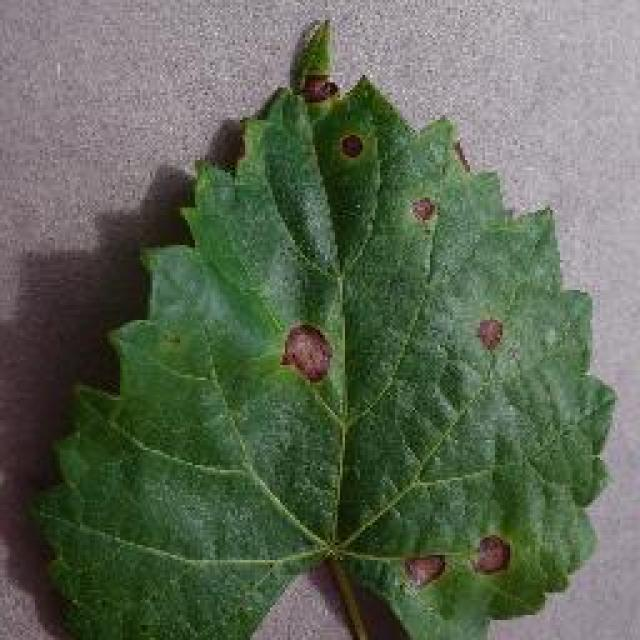Grape___Black_rot: (21, 16, 620, 638)
